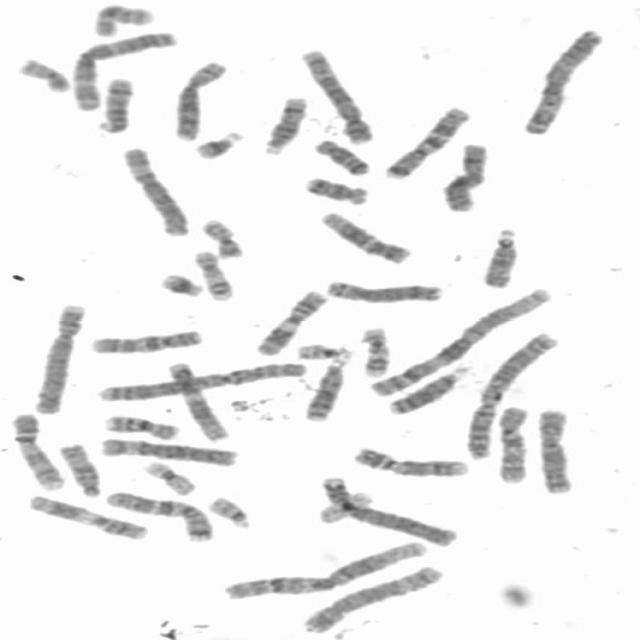A1: (366, 284, 556, 399), (218, 537, 429, 603)
A2: (459, 329, 562, 462), (93, 359, 309, 403)
A3: (517, 25, 605, 135), (66, 28, 181, 112)
B4: (315, 474, 457, 548), (29, 299, 88, 415)
B5: (297, 562, 446, 634), (297, 44, 377, 145)
C10: (88, 326, 206, 355), (493, 403, 533, 485)
C11: (22, 491, 149, 541), (250, 288, 331, 358)
C12: (163, 359, 234, 442), (314, 208, 414, 265)
C6: (116, 144, 192, 238), (94, 434, 240, 468)
C7: (379, 102, 473, 181), (100, 488, 216, 544)
C8: (168, 57, 231, 142), (320, 276, 448, 306)
C9: (6, 410, 66, 492), (348, 443, 472, 479)
D13: (384, 361, 473, 417), (300, 352, 352, 423)
D14: (258, 93, 309, 156), (93, 74, 136, 135)
D15: (478, 224, 522, 290), (54, 441, 104, 498)
E16: (89, 1, 156, 38), (100, 411, 182, 441)
E17: (189, 248, 236, 302), (357, 324, 395, 378)
E18: (309, 135, 374, 177), (298, 173, 371, 206)
F19: (310, 488, 376, 525), (138, 459, 200, 496)
F20: (197, 215, 247, 259), (15, 56, 72, 94)
G21: (188, 127, 245, 161), (154, 269, 206, 299)
G22: (203, 494, 254, 530), (294, 340, 354, 362)
X: (532, 403, 577, 496), (438, 140, 492, 212)
